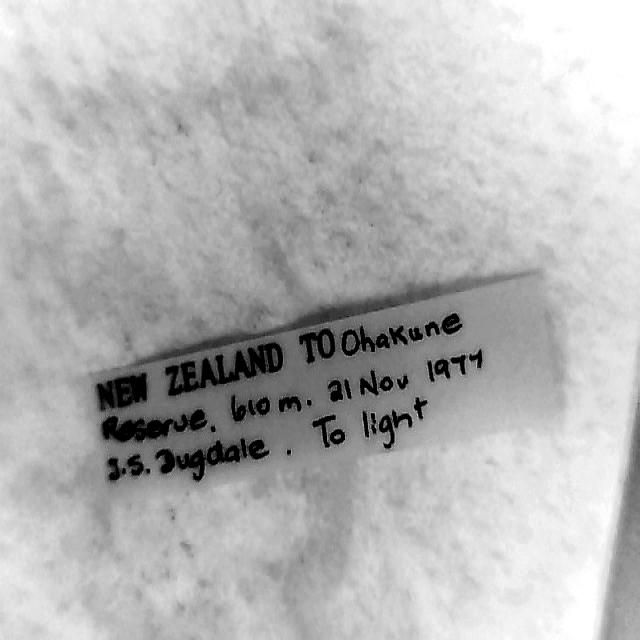mixed_label: (96, 275, 554, 492)
